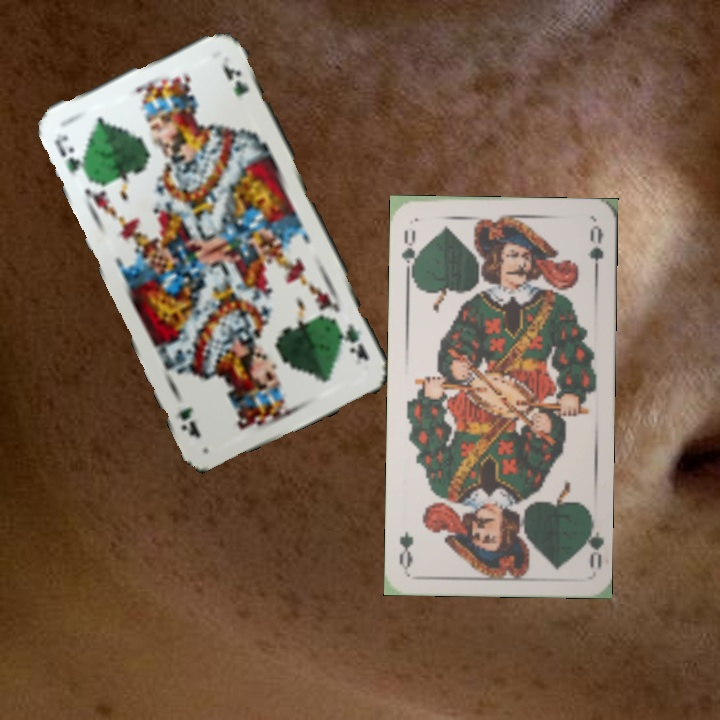GK: (50, 129, 91, 178), (334, 319, 372, 364)
GO: (577, 513, 604, 571), (398, 226, 423, 279)
